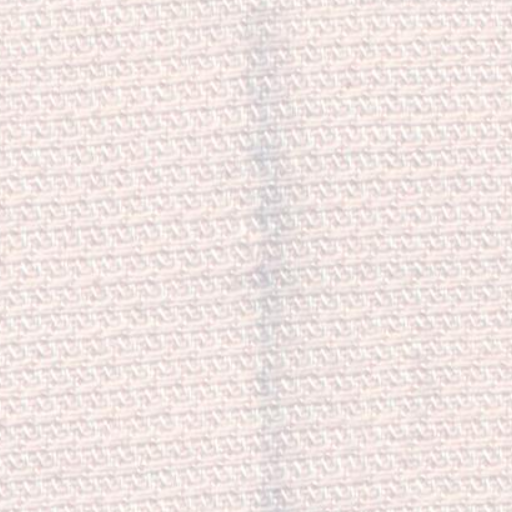WuZi: (209, 18, 338, 503)
